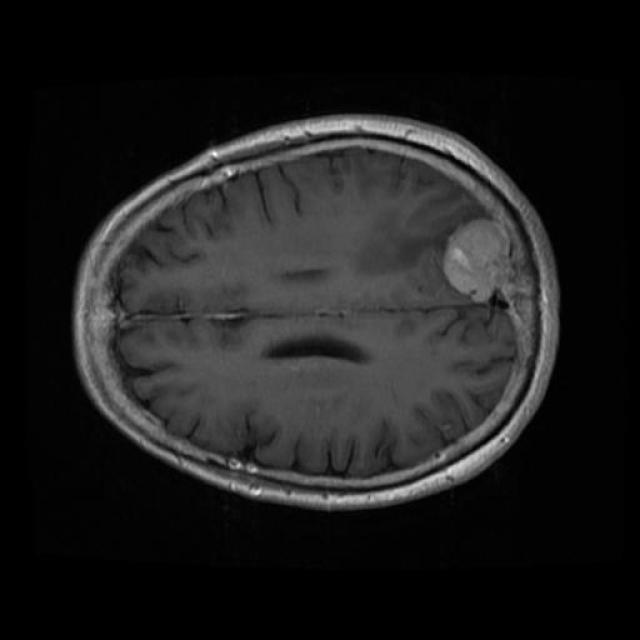Meningioma: (443, 218, 534, 368)
